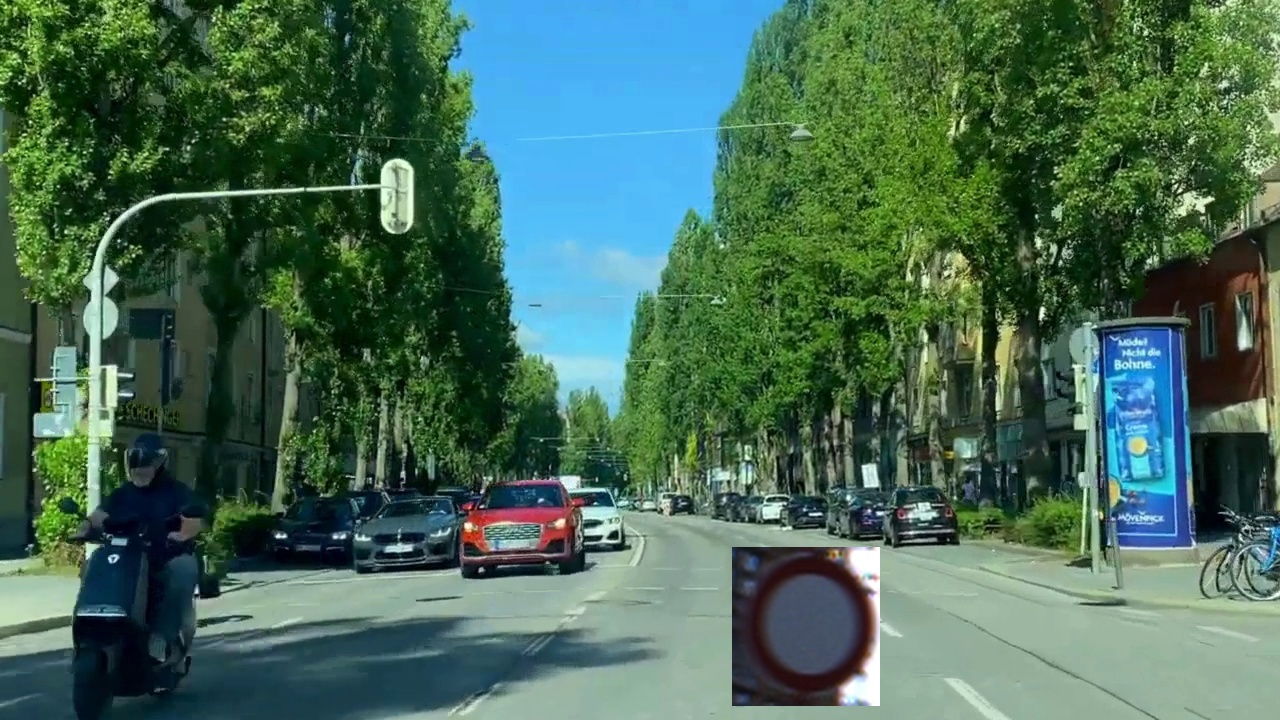No vehicles: (732, 547, 880, 706)
